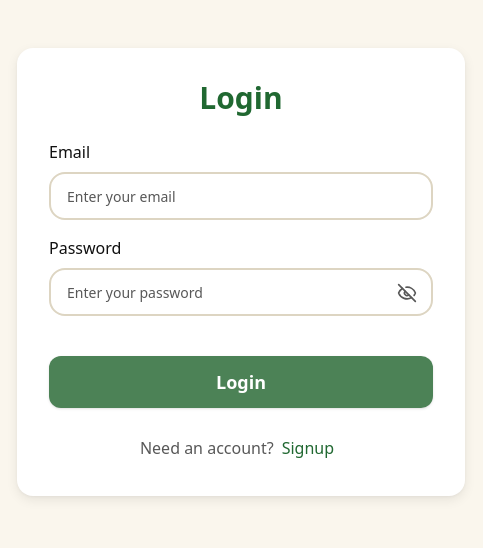
it: shows validation errors on empty submit
Click the button "Login".
click(241, 382)  # box [49,356,433,408]
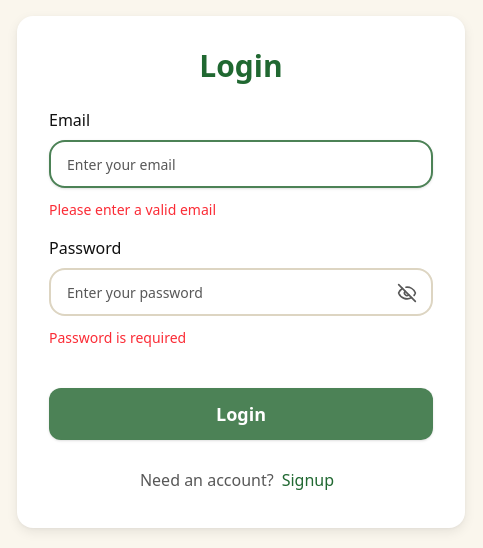
Expected: the text "Please enter a valid email" is shown, [49,200,216,219]
Expected: the text "Password is required" is shown, [49,328,186,347]
